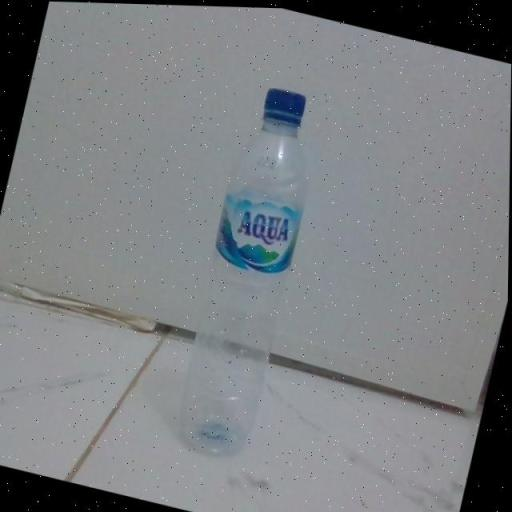plastic: (168, 74, 330, 464)
